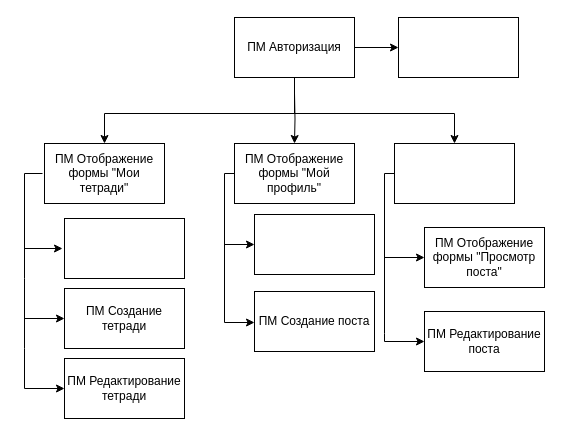
This 562x436 diagram has some shape labels left out. The centre of each missing label's shape, as x and y in pixels:
ПМ Отображение формы "Лента: Все посты/Мои подписки": point 454,173
ПМ Просмотр тетради: point 124,248
ПМ Регистрация: point 458,47
ПМ Редактирования профиля: point 314,244
